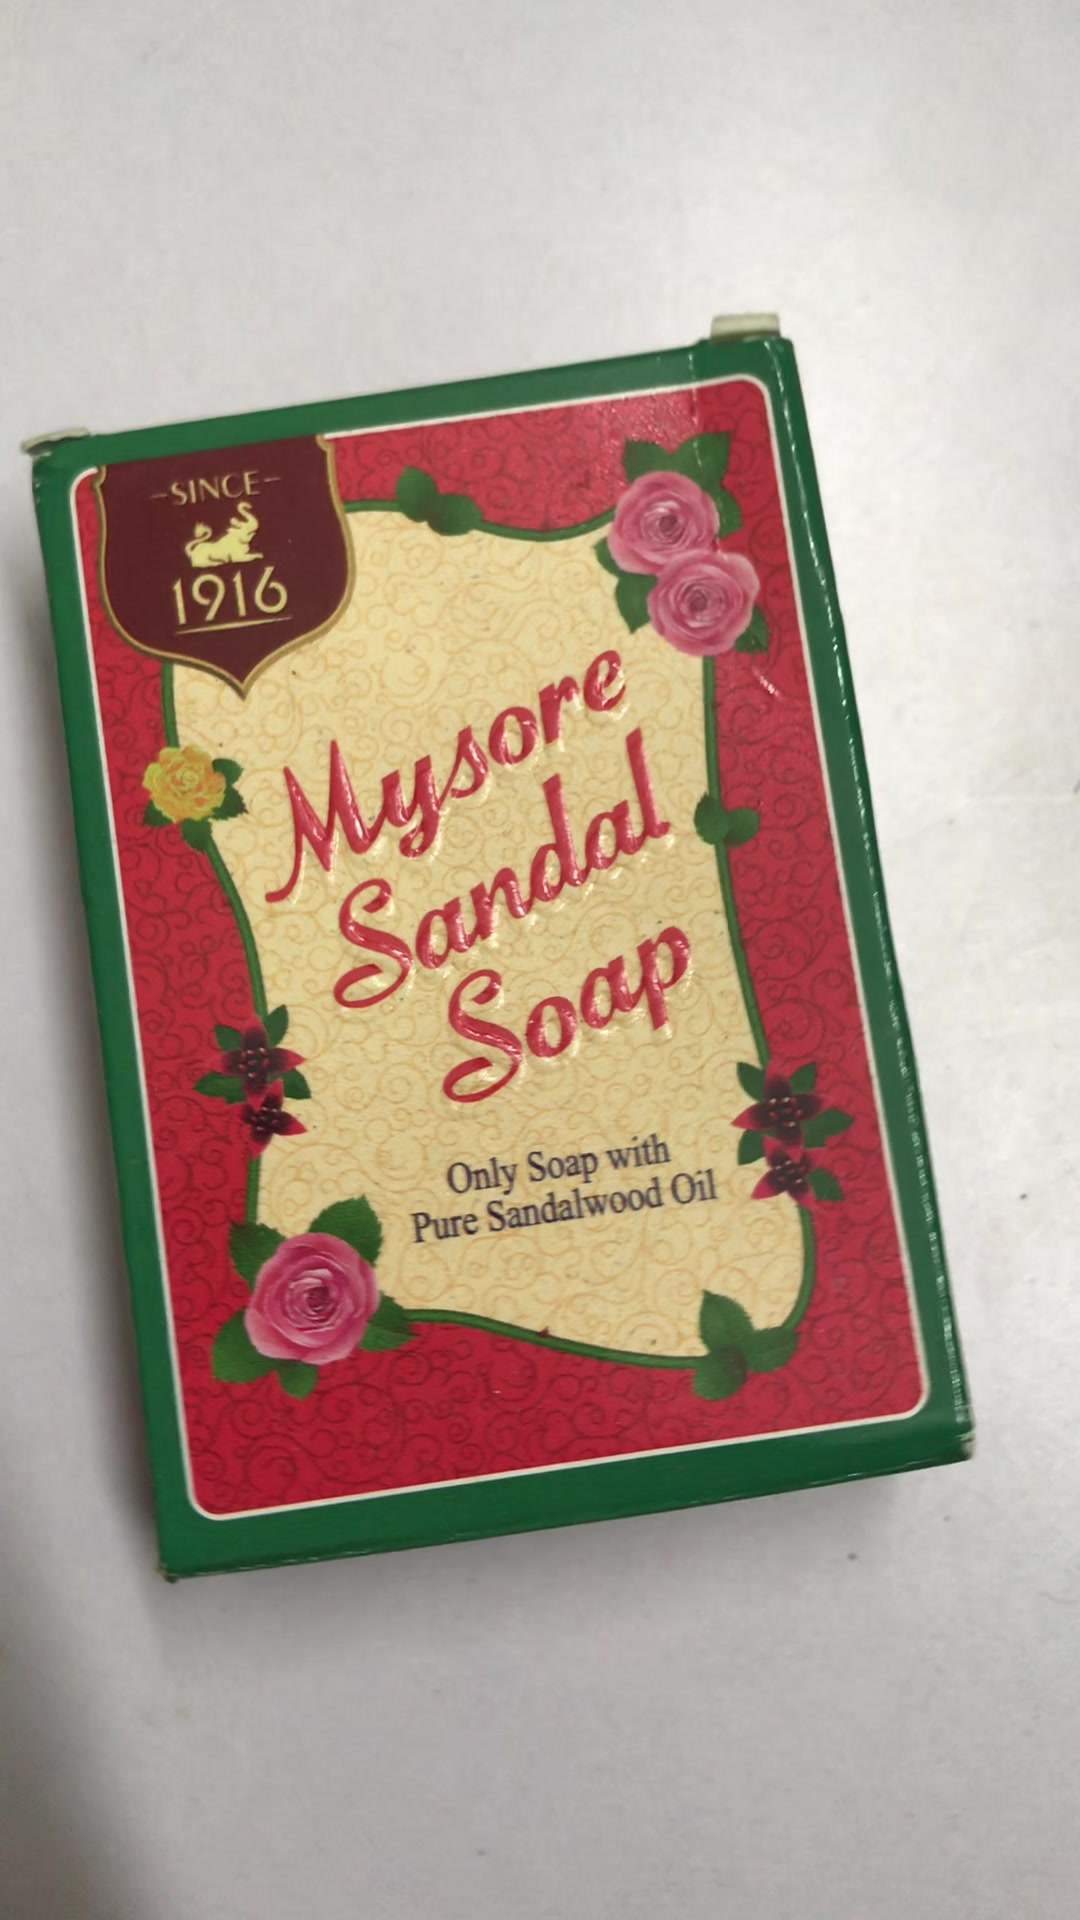mysore sandal soap: (26, 315, 1007, 1586)
